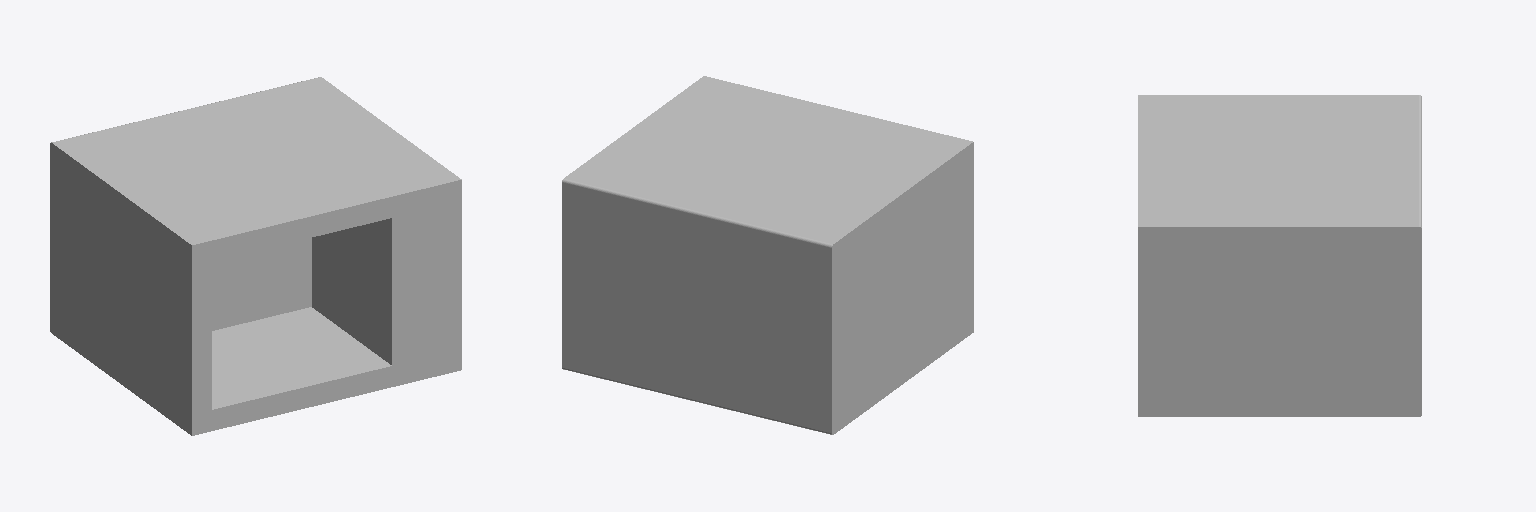
Rendered from original-4.obj.
The picture shows the model from 3 angles: view 1: azimuth 30°, elevation 25°; view 2: azimuth 150°, elevation 25°; view 3: azimuth 270°, elevation 25°; orthographic projection.
Bounding box in the file's own units: 1.32 × 0.8896 × 1.2.